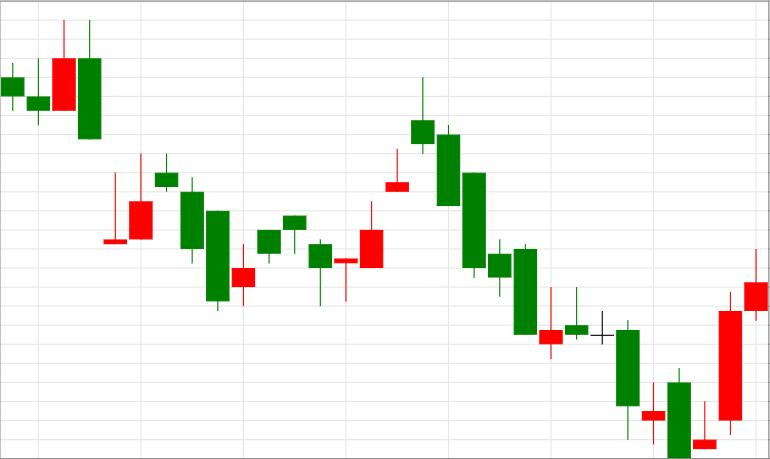shooting_star_fall: (334, 77, 434, 302), (668, 249, 769, 457)
